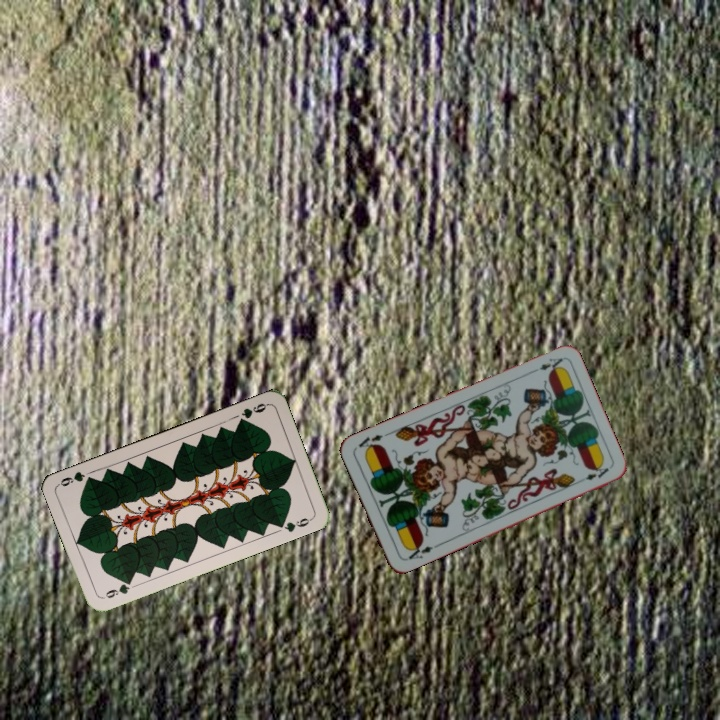EA: (401, 539, 440, 563), (526, 354, 565, 376)
G9: (234, 399, 271, 426), (99, 576, 135, 601)
